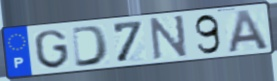7: (111, 21, 146, 65)
9: (193, 13, 223, 56)
A: (226, 8, 271, 55)
D: (70, 24, 111, 69)
G: (32, 28, 71, 70)
N: (150, 13, 189, 62)
